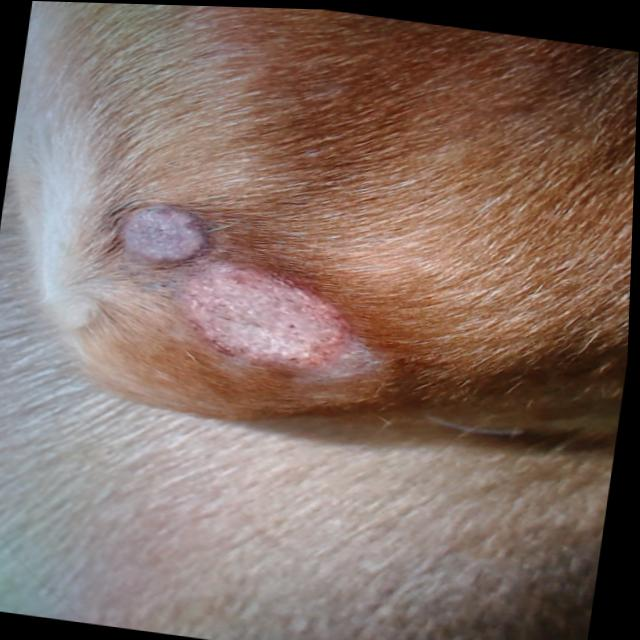ringworm: (159, 248, 360, 388)
